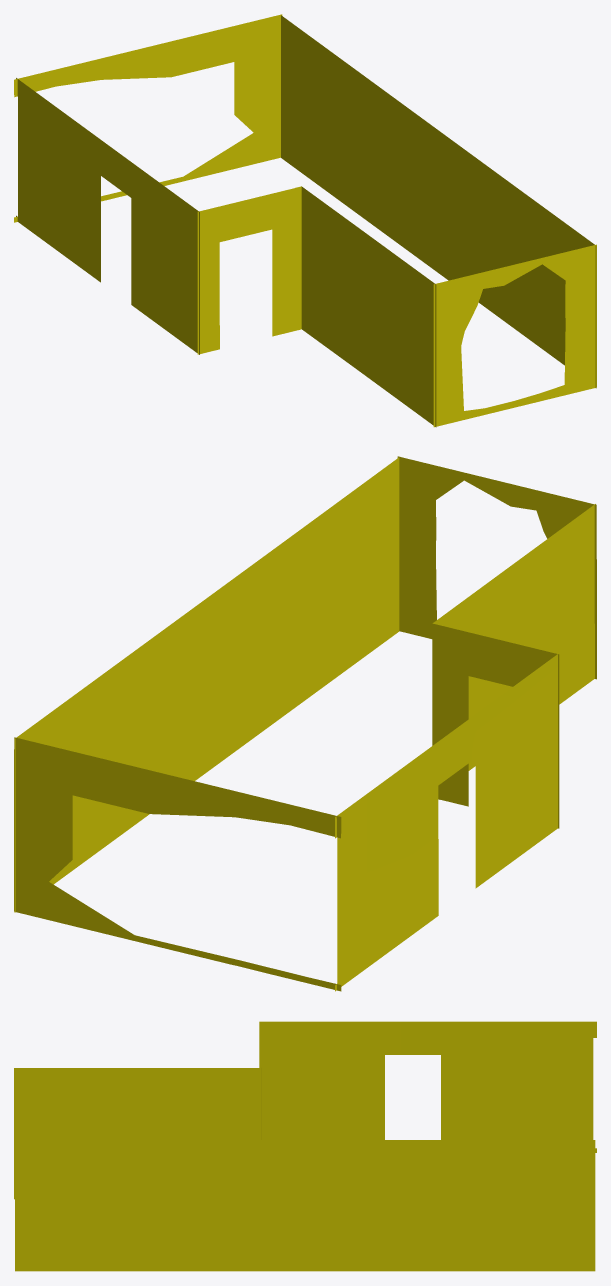
Rendered from BH03_WP_06_Break.fbx.
3 renders of one model, top to bottom at view 1: azimuth 30°, elevation 25°; view 2: azimuth 150°, elevation 25°; view 3: azimuth 270°, elevation 25°, orthographic. The views are drawn at different scales.
Parts seen in each view (by area): view 1: BH03_WP_06_Break; view 2: BH03_WP_06_Break; view 3: BH03_WP_06_Break.
Boxes of the visible parts, <box> form: BH03_WP_06_Break: <box>14,14,596,427</box>; BH03_WP_06_Break: <box>14,456,596,991</box>; BH03_WP_06_Break: <box>14,1021,596,1271</box>.
Bounding box in the file's own units: 590 × 301 × 1207.
